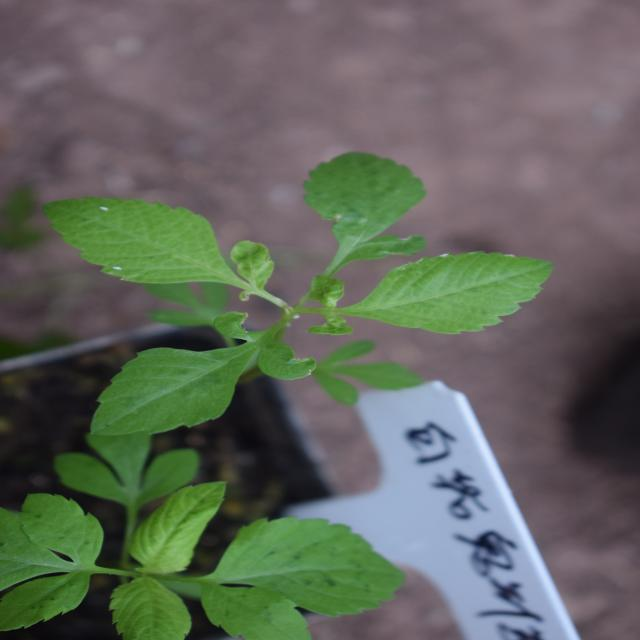Bidens pilosa: (143, 79, 443, 566), (437, 203, 639, 636)
